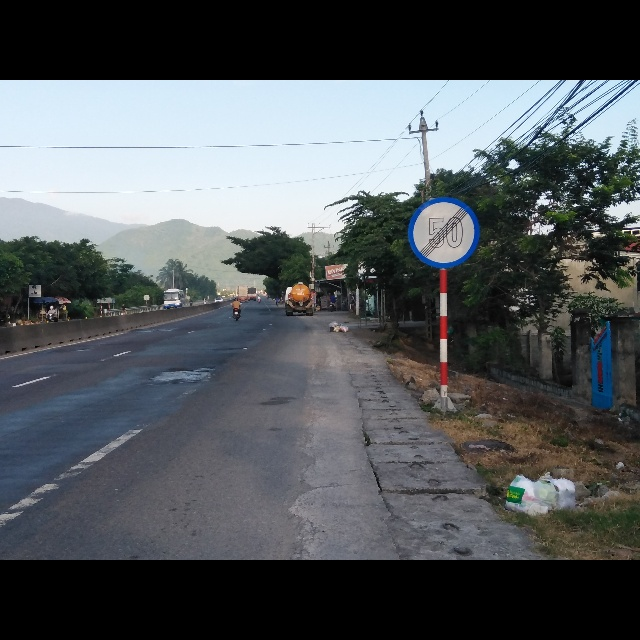Hết hạn chế tốc độ tối đa 50km/h: (406, 196, 482, 270)
